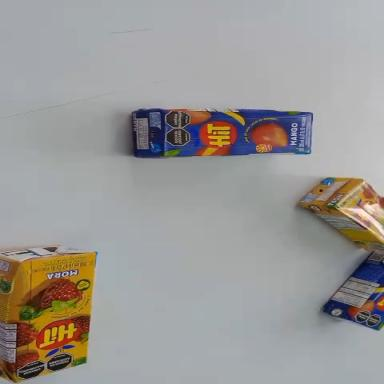HIT-MANGO: (133, 108, 312, 159), (322, 252, 383, 330)
HIT-MORA: (0, 246, 97, 383), (298, 156, 384, 262)
cara_F: (10, 246, 97, 384), (161, 111, 313, 161), (334, 176, 384, 246), (350, 275, 384, 336)
